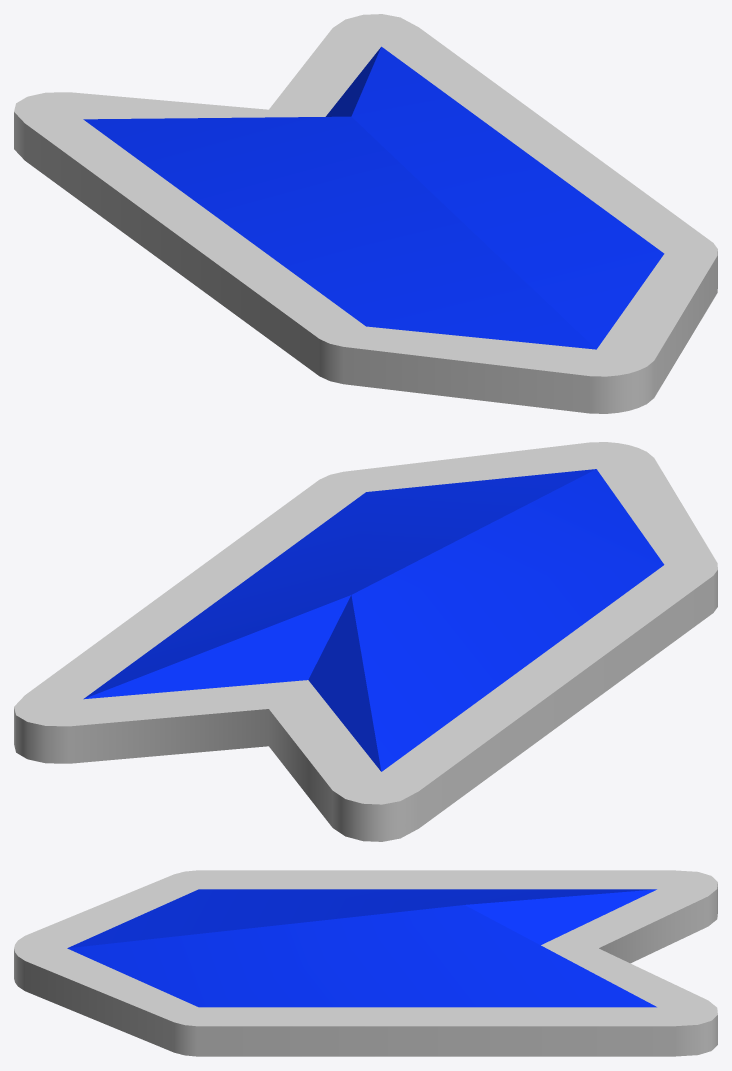
Rendered from map_navigation_nautical.obj.
3 views of the same model, one above another, from view 1: azimuth 30°, elevation 25°; view 2: azimuth 150°, elevation 25°; view 3: azimuth 270°, elevation 25° (orthographic). The views are drawn at different scales.
Parts seen in each view (by area): view 1: map_navigation_nautical; view 2: map_navigation_nautical; view 3: map_navigation_nautical.
Boxes of the visible parts, bbox=[...] form: map_navigation_nautical: bbox=[14, 14, 717, 413]; map_navigation_nautical: bbox=[14, 442, 717, 841]; map_navigation_nautical: bbox=[14, 870, 717, 1056].
Bounding box in the file's own units: 3.16 × 0.6973 × 6.04.
